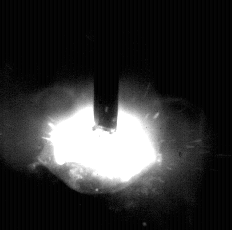arame: (95, 0, 119, 133)
poca: (44, 0, 163, 230)
